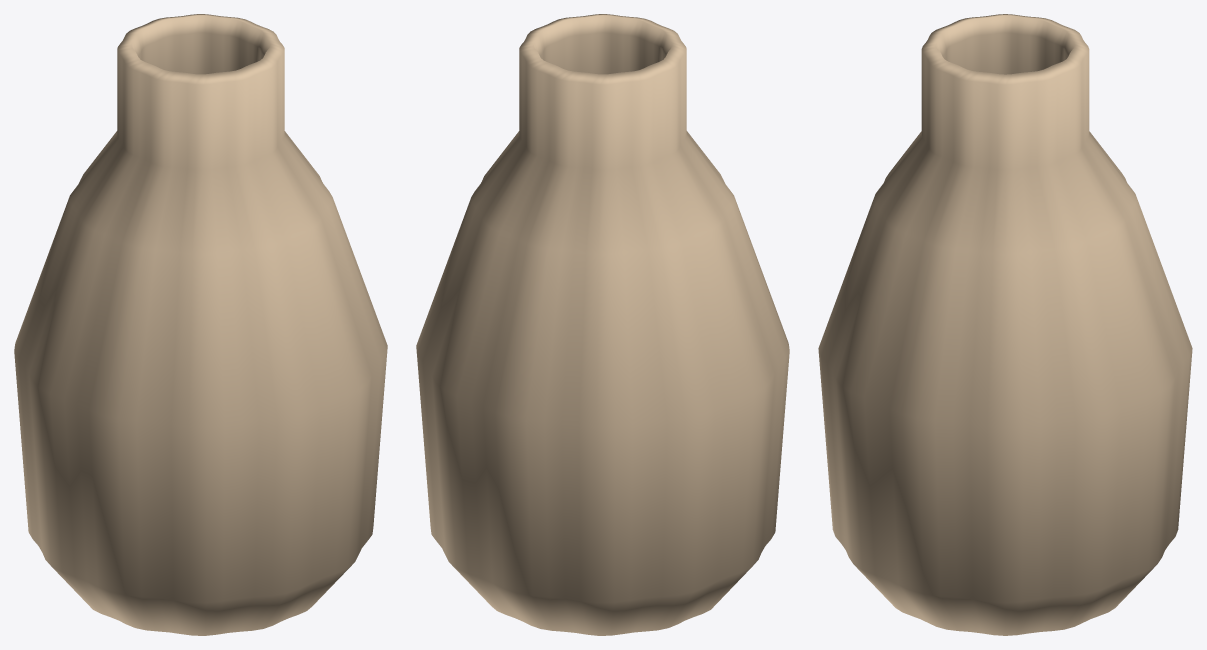
File: ceramic_vase.glb
3 views of the same model, side by side, from view 1: azimuth 30°, elevation 25°; view 2: azimuth 150°, elevation 25°; view 3: azimuth 270°, elevation 25° (orthographic).
Visible parts, largest first — view 1: ceramic_vase__body; view 2: ceramic_vase__body; view 3: ceramic_vase__body.
Part boxes in pixels (x1,y1,x2,y2): ceramic_vase__body: (14, 14, 387, 635); ceramic_vase__body: (416, 14, 789, 635); ceramic_vase__body: (818, 14, 1192, 635).
Bounding box in the file's own units: 0.1588 × 0.252 × 0.1588.
